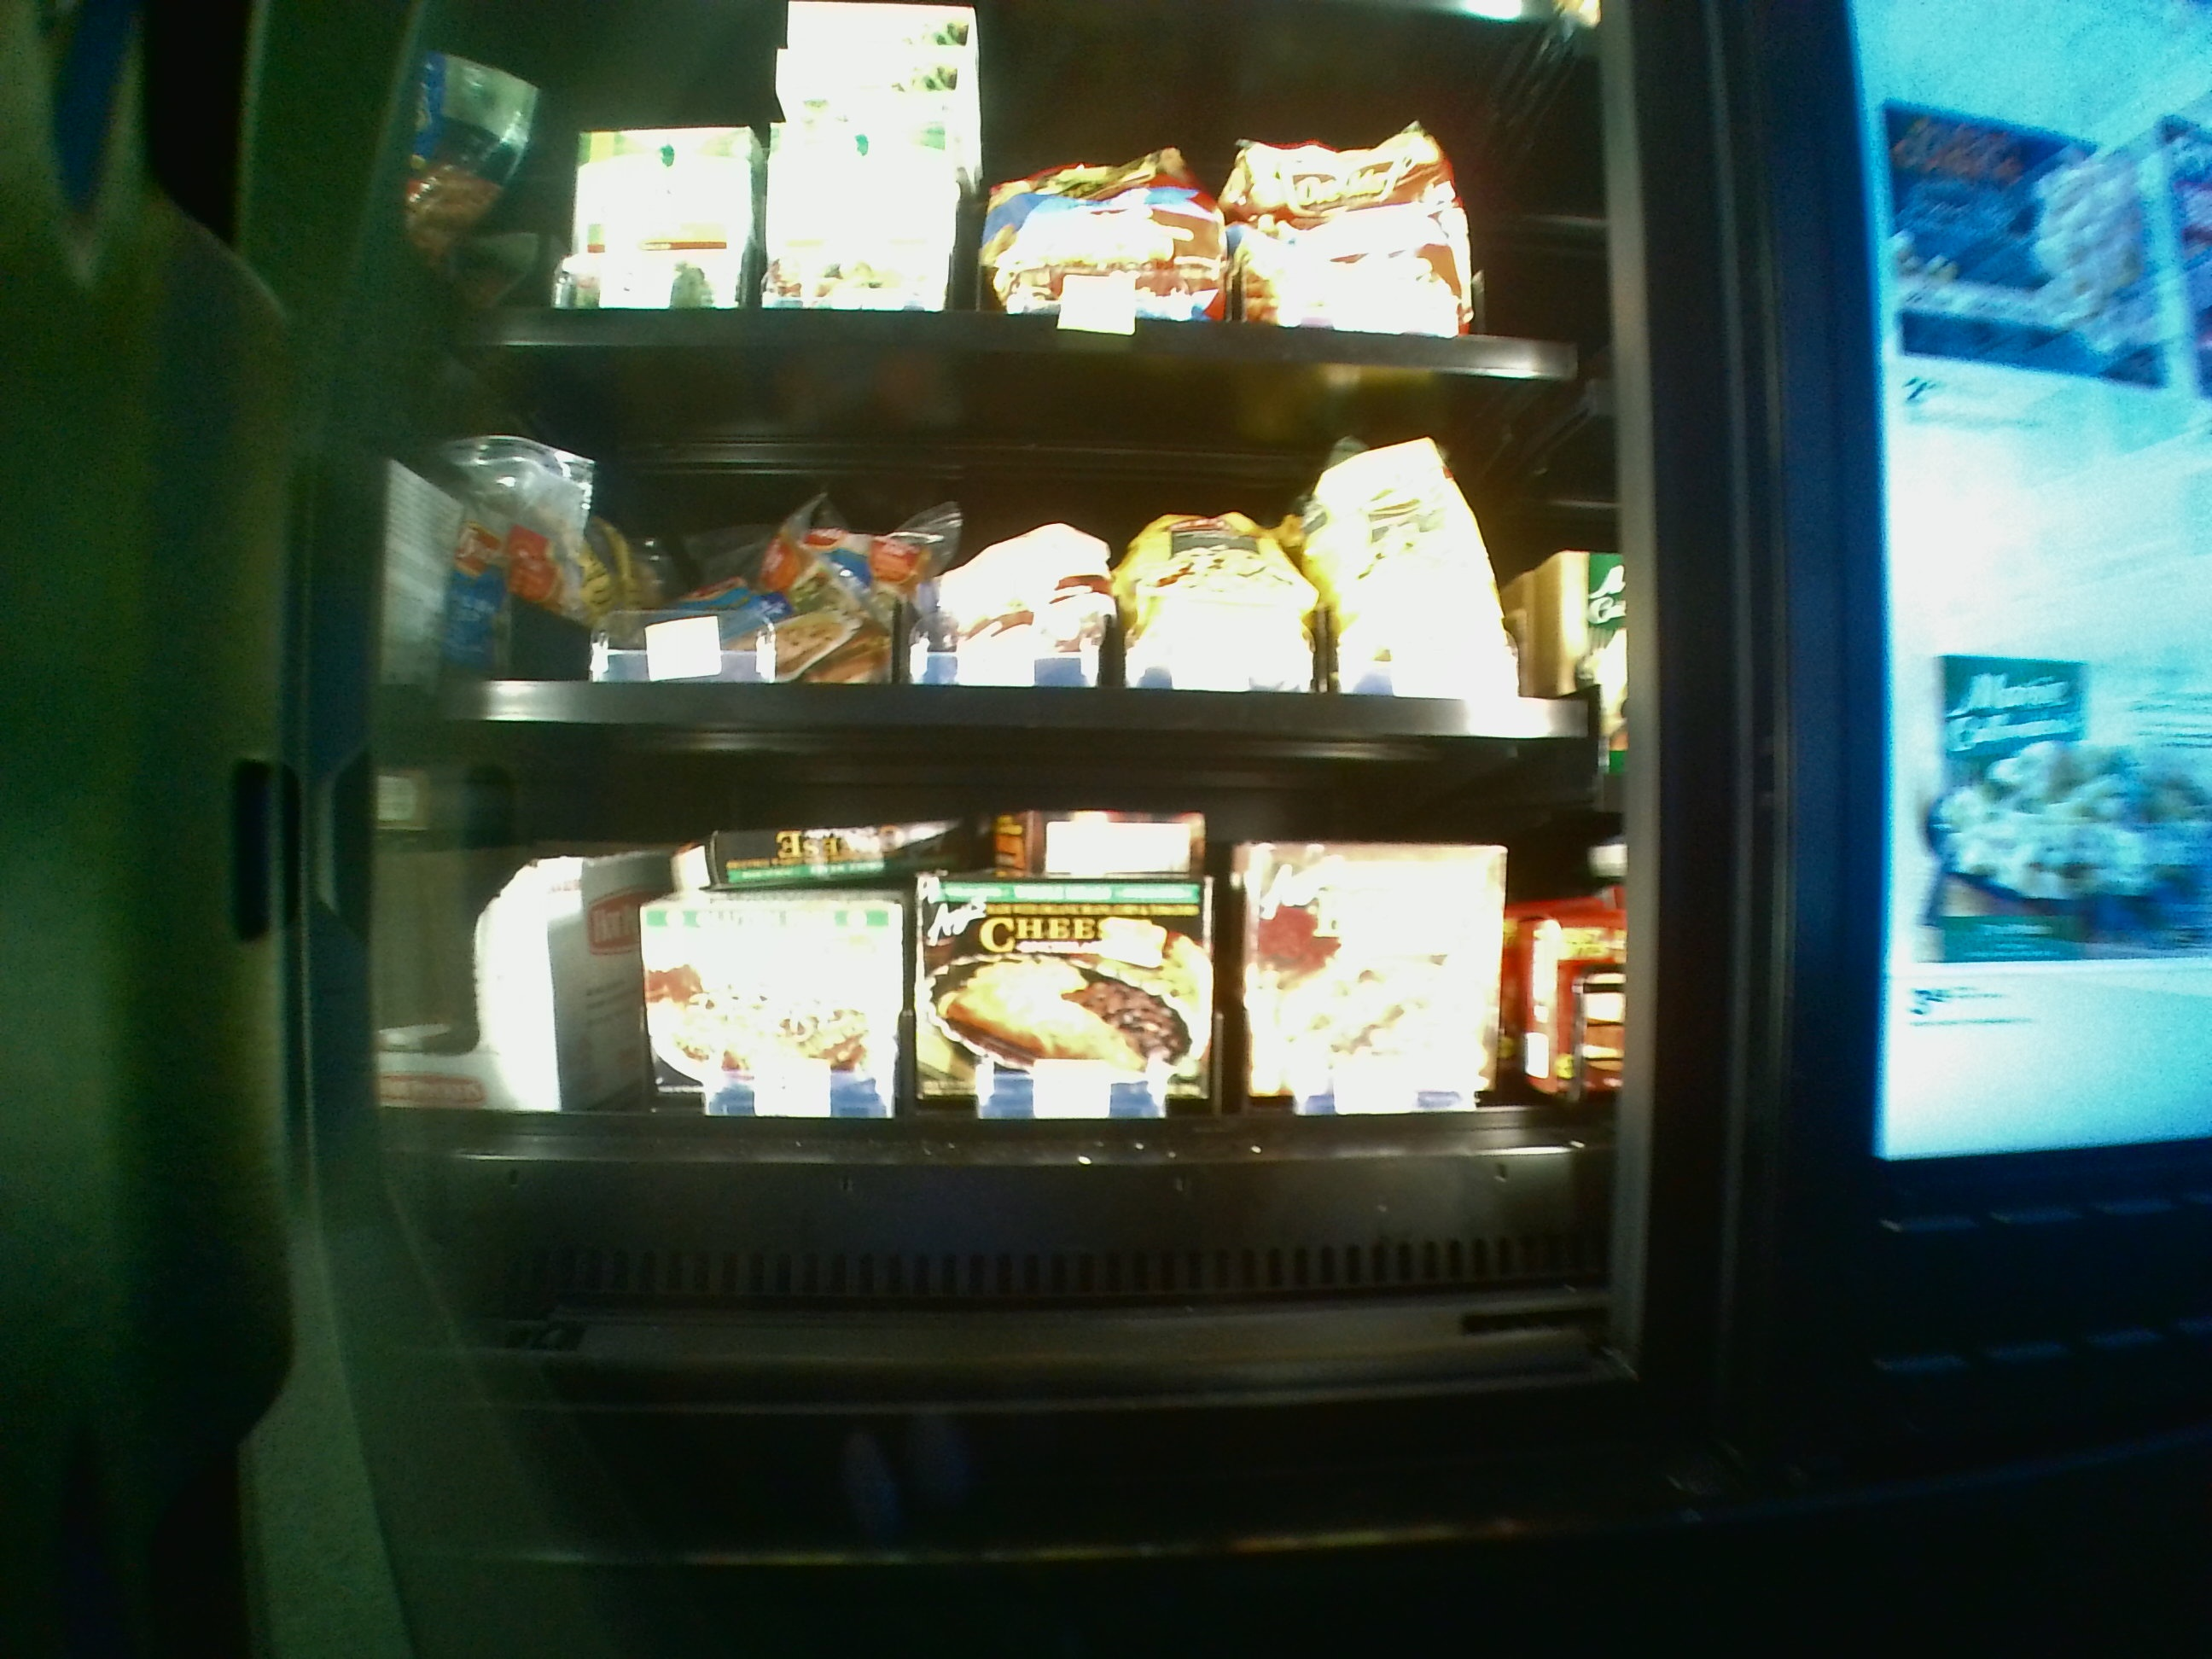shelf: (387, 744, 1609, 1309), (392, 350, 1609, 739)
